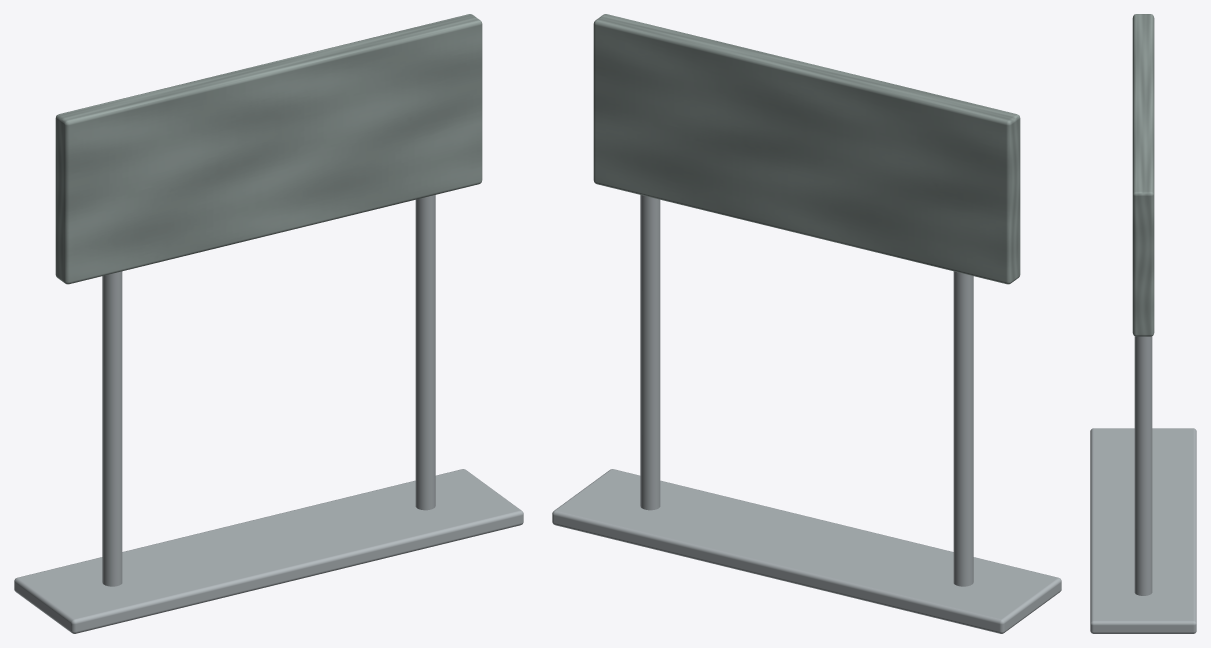
Rendered from liminal-spaces-kit-blank-sign-ce28a827__25277.glb.
3 views of the same model, side by side, from view 1: azimuth 30°, elevation 25°; view 2: azimuth 150°, elevation 25°; view 3: azimuth 270°, elevation 25° (orthographic). The views are drawn at different scales.
Parts seen in each view (by area): view 1: blank-sign; view 2: blank-sign; view 3: blank-sign.
Part boxes in pixels (box(x1,y1,x2,y2)): blank-sign: box(14, 14, 523, 633); blank-sign: box(552, 14, 1061, 633); blank-sign: box(1090, 14, 1196, 633).
Size of the model in its own units: 1.3 by 1.35 by 0.2999.
Materials: 2 (1 with a texture image).
